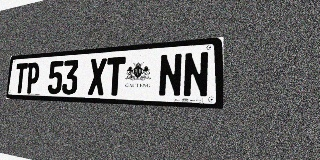3: (62, 60, 79, 95)
5: (48, 61, 64, 94)
N: (183, 51, 209, 98), (158, 53, 183, 97)
P: (25, 62, 40, 94)
T: (105, 57, 126, 96), (14, 63, 28, 93)
X: (88, 58, 107, 95)
